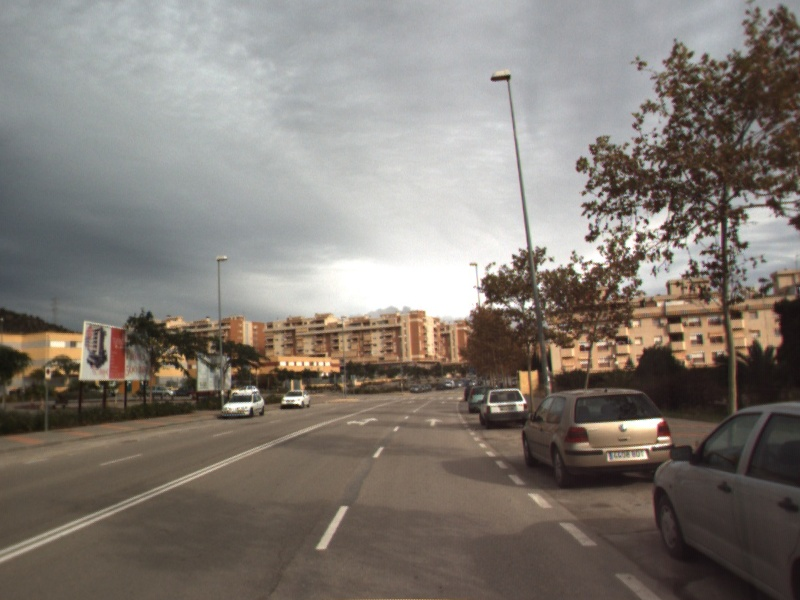STRAIGHT: (422, 416, 445, 428)
STRAIGHT_LEFT: (344, 415, 380, 428)
